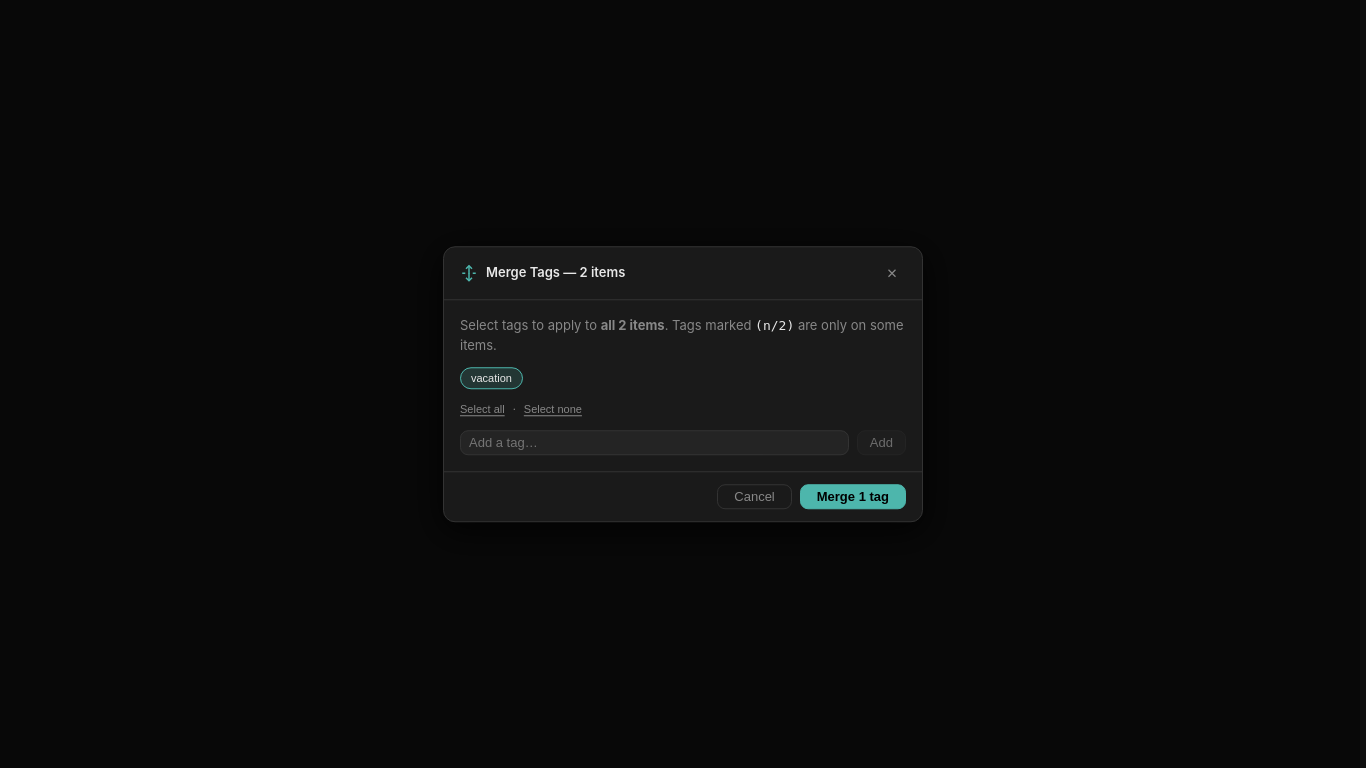
Test: MergeTagsModal — adding new tags › typing and pressing Add inserts a new chip
Type "portrait" into the field with placeholder "Add a tag…".
click(654, 442); type("portrait")  # box x1=460 y1=430 x2=849 y2=455
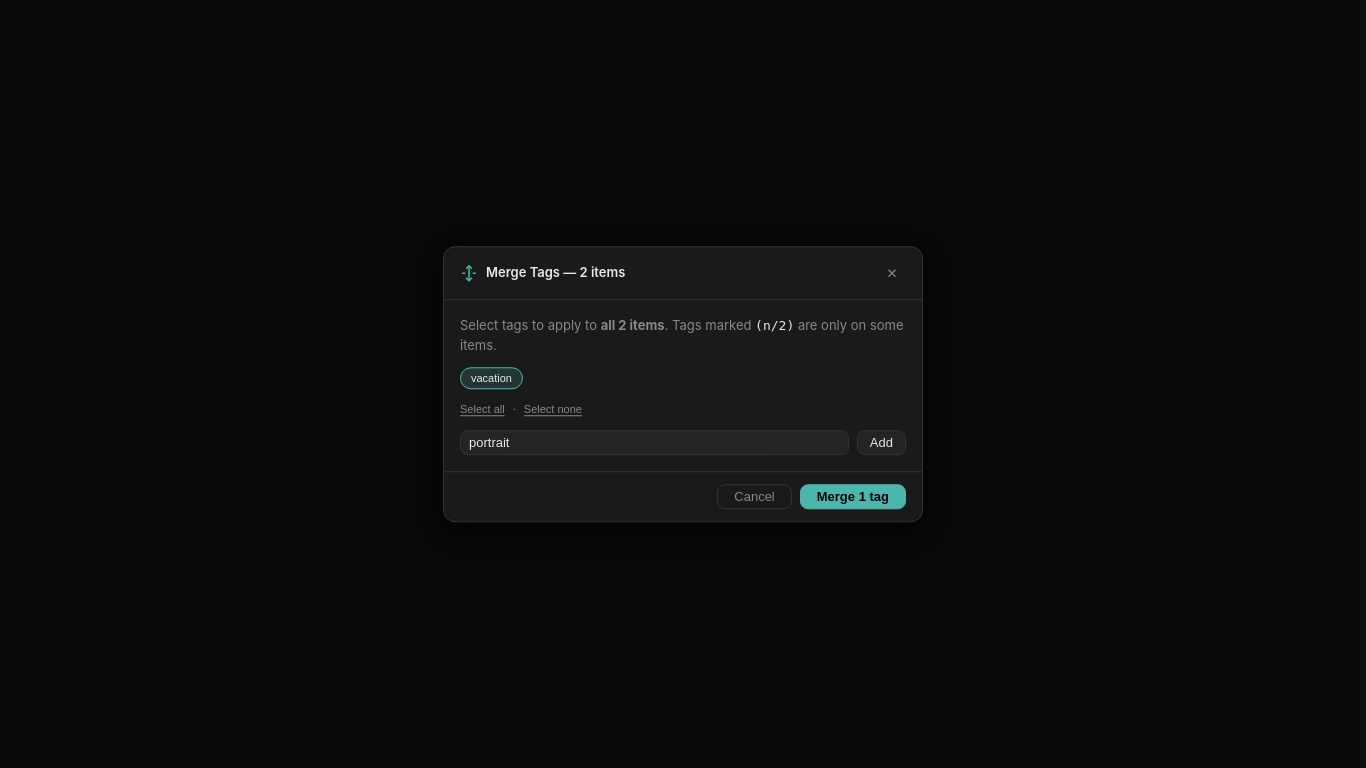
Click the button "Add".
click(881, 442)  # box x1=857 y1=430 x2=906 y2=455
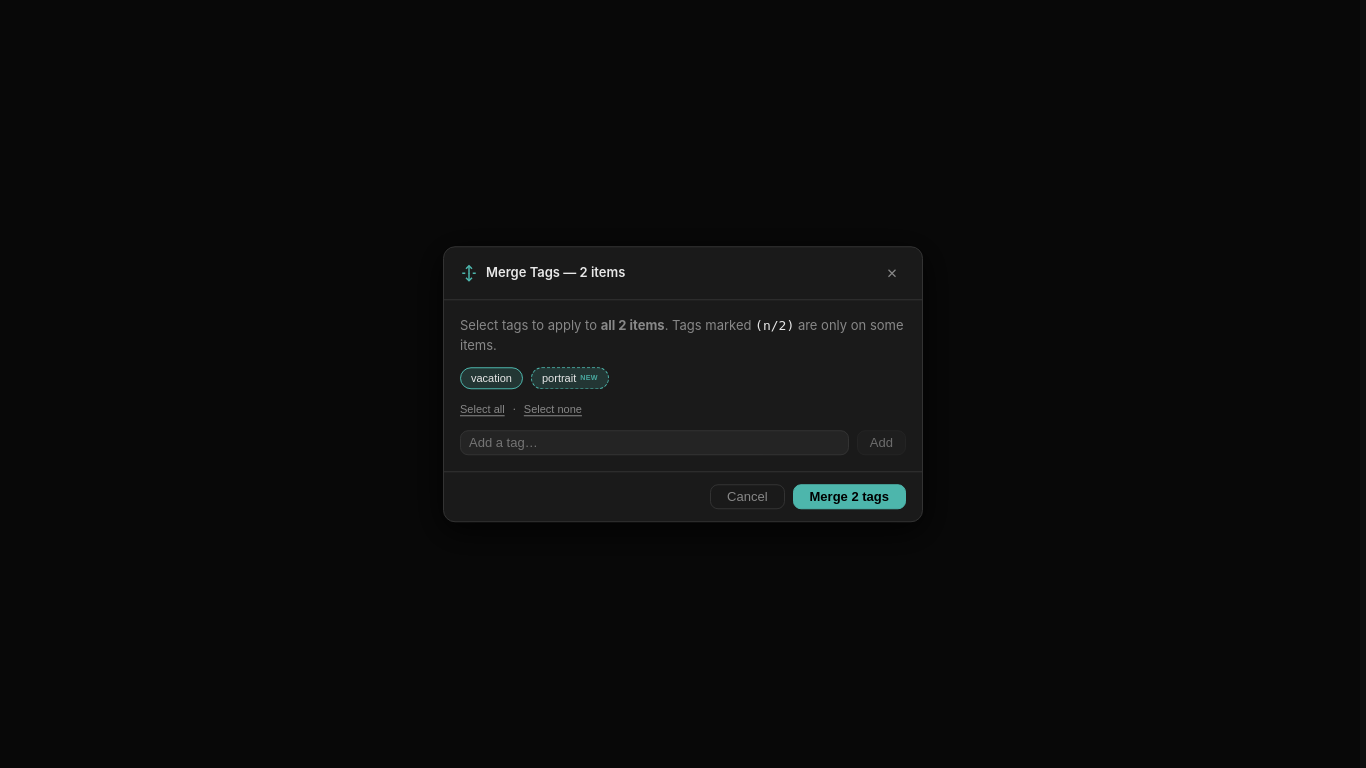
Expected: the button "portrait new" is shown, x1=531 y1=367 x2=609 y2=389
